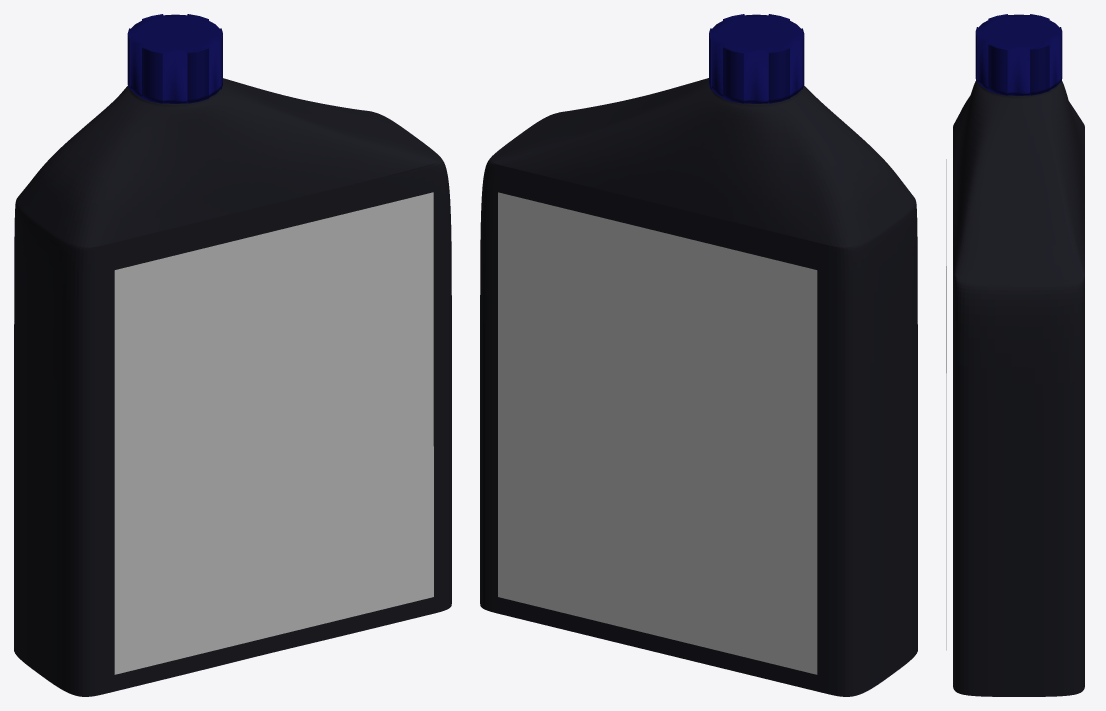
The model's file is tarroaceite3.obj.
3 renders of one model, left to right at view 1: azimuth 30°, elevation 25°; view 2: azimuth 150°, elevation 25°; view 3: azimuth 270°, elevation 25°, orthographic. The views are drawn at different scales.
Visible parts, largest first — view 1: fondoAceite, cuerpoTarro, tapa; view 2: fondoAceite.001, cuerpoTarro, tapa; view 3: cuerpoTarro, tapa, fondoAceite.
Boxes of the visible parts, left/top/right/bottom form: fondoAceite: left=114, top=192, right=433, bottom=674; cuerpoTarro: left=14, top=78, right=451, bottom=696; tapa: left=127, top=14, right=222, bottom=103; fondoAceite.001: left=498, top=192, right=817, bottom=674; cuerpoTarro: left=480, top=78, right=917, bottom=696; tapa: left=709, top=14, right=804, bottom=103; cuerpoTarro: left=953, top=80, right=1084, bottom=696; tapa: left=975, top=14, right=1062, bottom=95; fondoAceite: left=946, top=159, right=946, bottom=650.
Bounding box in the file's own units: 1.9 × 2.86 × 0.678.
